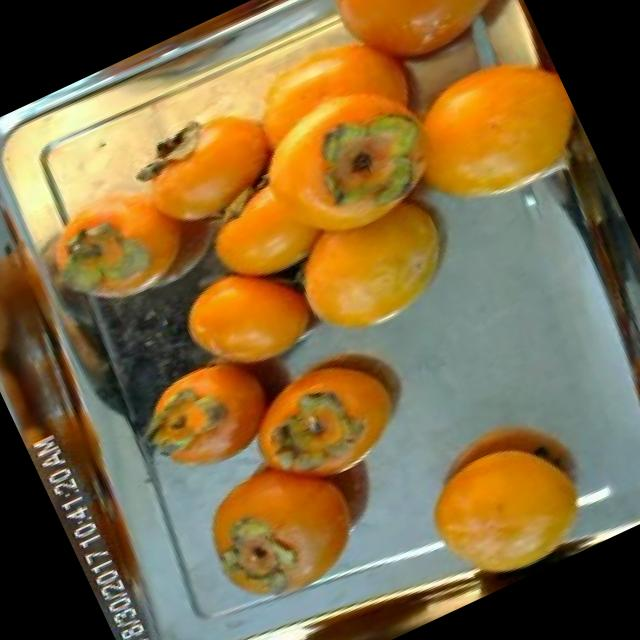Fruit: (249, 140, 496, 371), (382, 380, 622, 606), (368, 27, 604, 251), (215, 321, 449, 517), (150, 228, 350, 408), (119, 330, 313, 502)
